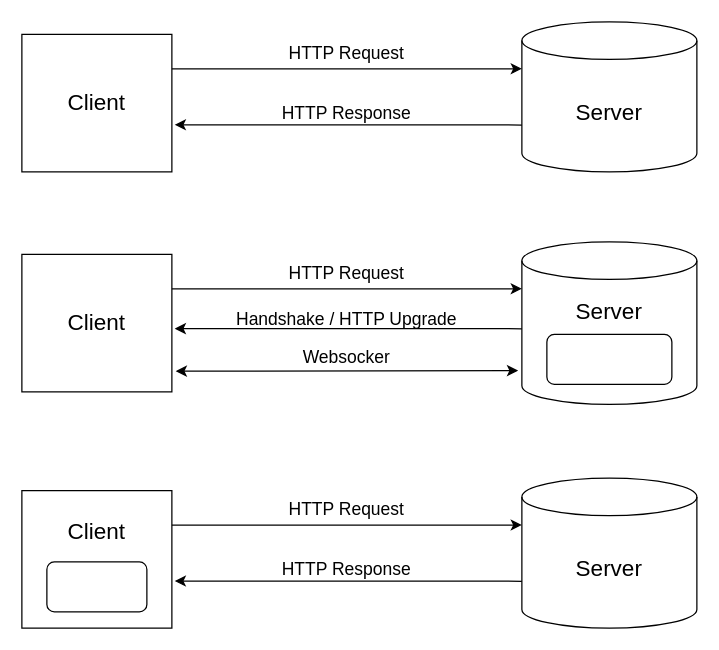
Image size: 719x650. Some labels were removed from this diagram. The centre of each missing label's shape, as x and y in pixels:
R & Python: the point at 609,358
Wasm: the point at 96,586
